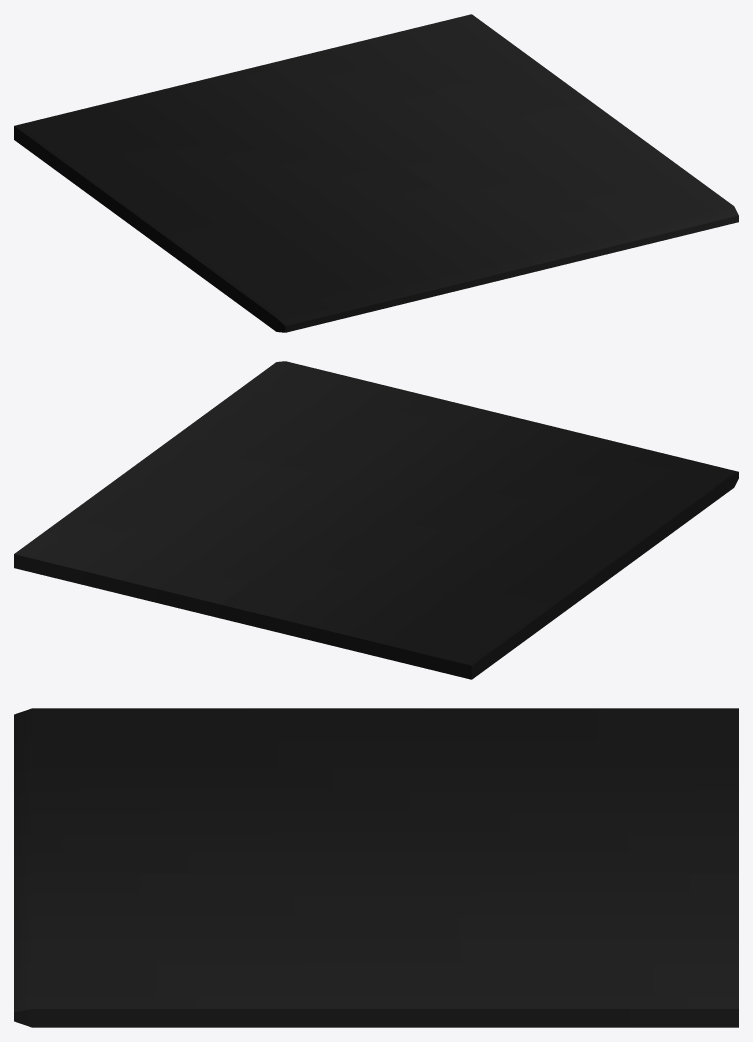
Rendered from Counter_Door_B.FBX.
3 renders of one model, top to bottom at view 1: azimuth 30°, elevation 25°; view 2: azimuth 150°, elevation 25°; view 3: azimuth 270°, elevation 25°, orthographic. The views are drawn at different scales.
Visible parts, largest first — view 1: Counter_door; view 2: Counter_door; view 3: Counter_door.
Part boxes in pixels (bbox=[...]): Counter_door: bbox=[14, 14, 738, 332]; Counter_door: bbox=[14, 361, 738, 679]; Counter_door: bbox=[14, 708, 738, 1027].
Bounding box in the file's own units: 196 × 5.71 × 199.
